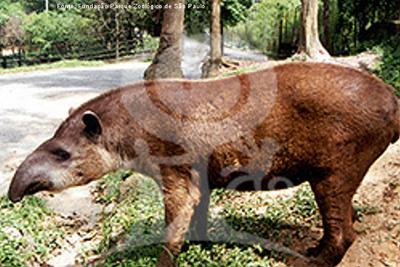Anta: (6, 59, 398, 261)
